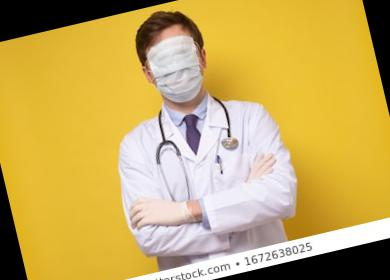mask_weared_incorrect: (136, 34, 217, 110)
